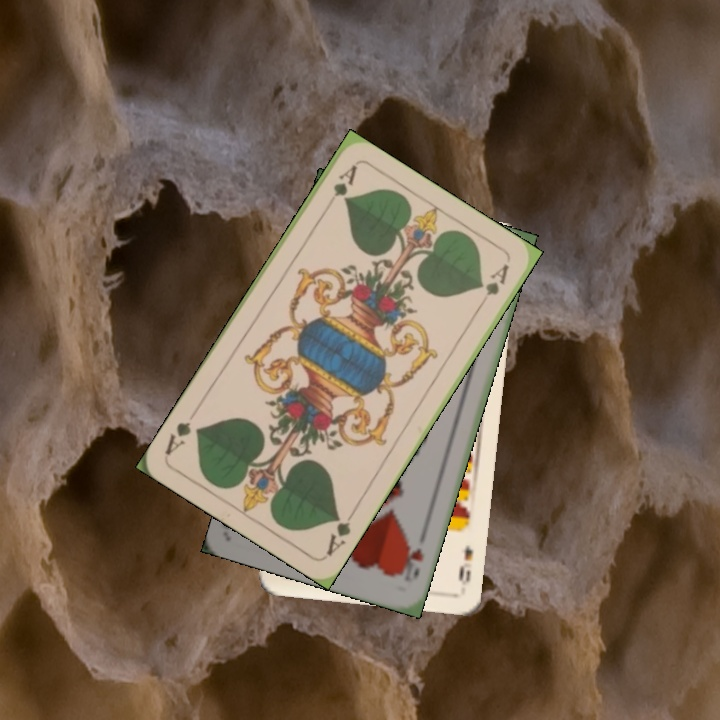E9: (454, 541, 475, 588)
GA: (320, 161, 359, 214), (322, 505, 358, 559)
HO: (396, 541, 426, 584)
